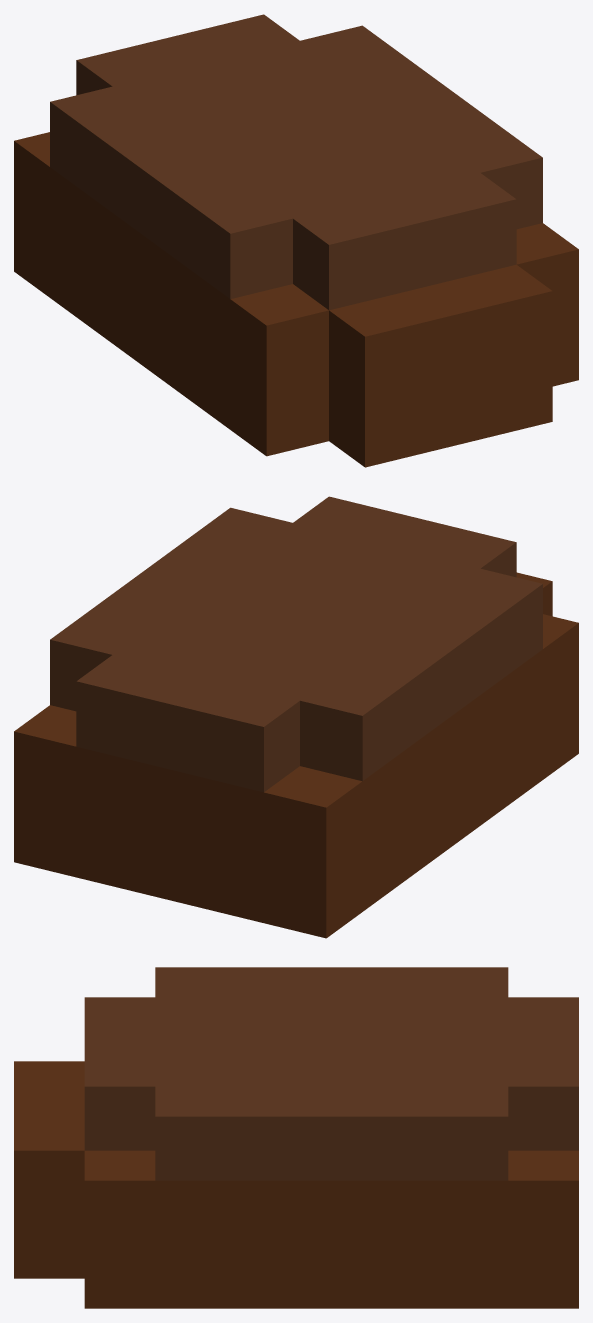
Rendered from char_foot.obj.
The picture shows the model from 3 angles, top to bottom: view 1: azimuth 30°, elevation 25°; view 2: azimuth 150°, elevation 25°; view 3: azimuth 270°, elevation 25°; orthographic projection. The views are drawn at different scales.
Size of the model in its own units: 5 by 3 by 8.
1 material, 1 textured.
